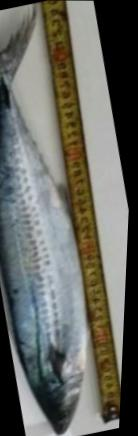fish: (0, 7, 90, 434)
